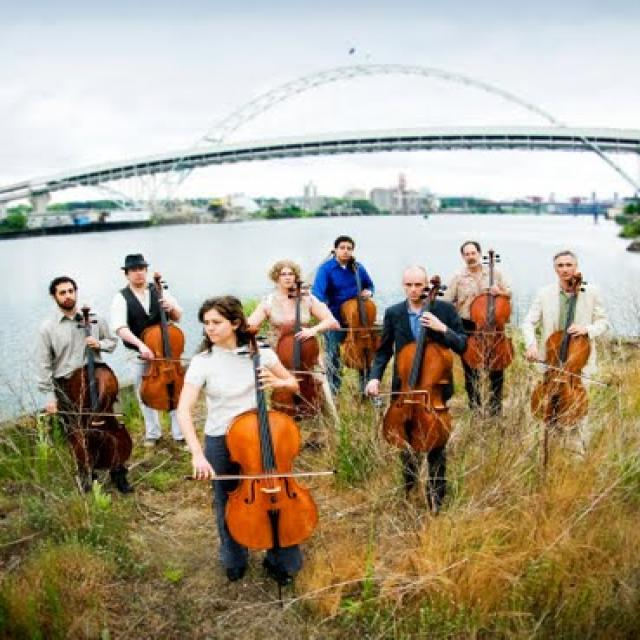cello: (220, 322, 322, 550), (384, 275, 454, 455), (68, 305, 134, 470), (530, 272, 590, 424), (272, 282, 322, 417), (142, 270, 188, 413), (466, 250, 512, 372), (343, 256, 385, 370)
